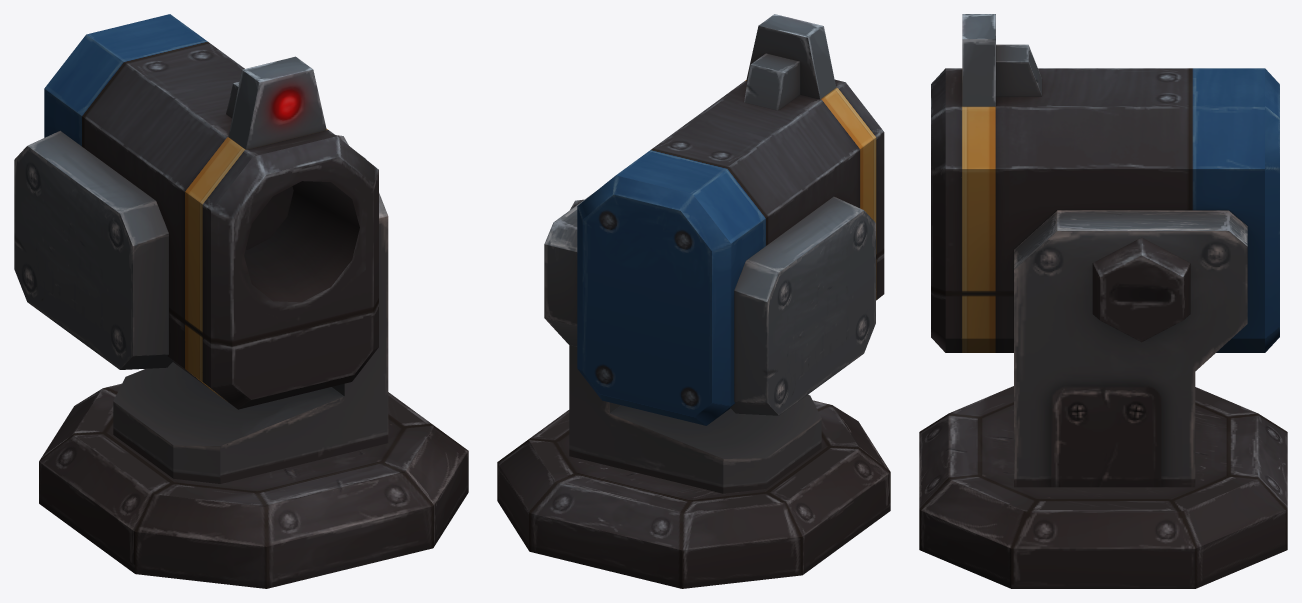
Rendered from Tow_Rocket2_1.fbx.
The picture shows the model from 3 angles, left to right: view 1: azimuth 30°, elevation 25°; view 2: azimuth 150°, elevation 25°; view 3: azimuth 270°, elevation 25°; orthographic projection. The views are drawn at different scales.
Visible parts, largest first — view 1: Barrel, Base; view 2: Barrel, Base; view 3: Base, Barrel.
Part boxes in pixels (box(x1,y1,x2,y2)): Barrel: box(14, 14, 378, 409); Base: box(39, 156, 468, 588); Barrel: box(570, 14, 884, 425); Base: box(497, 192, 890, 588); Base: box(919, 210, 1287, 588); Barrel: box(931, 14, 1279, 352).
Size of the model in its own units: 1.02 by 1.42 by 1.02.
Materials: 1 (1 with a texture image).
